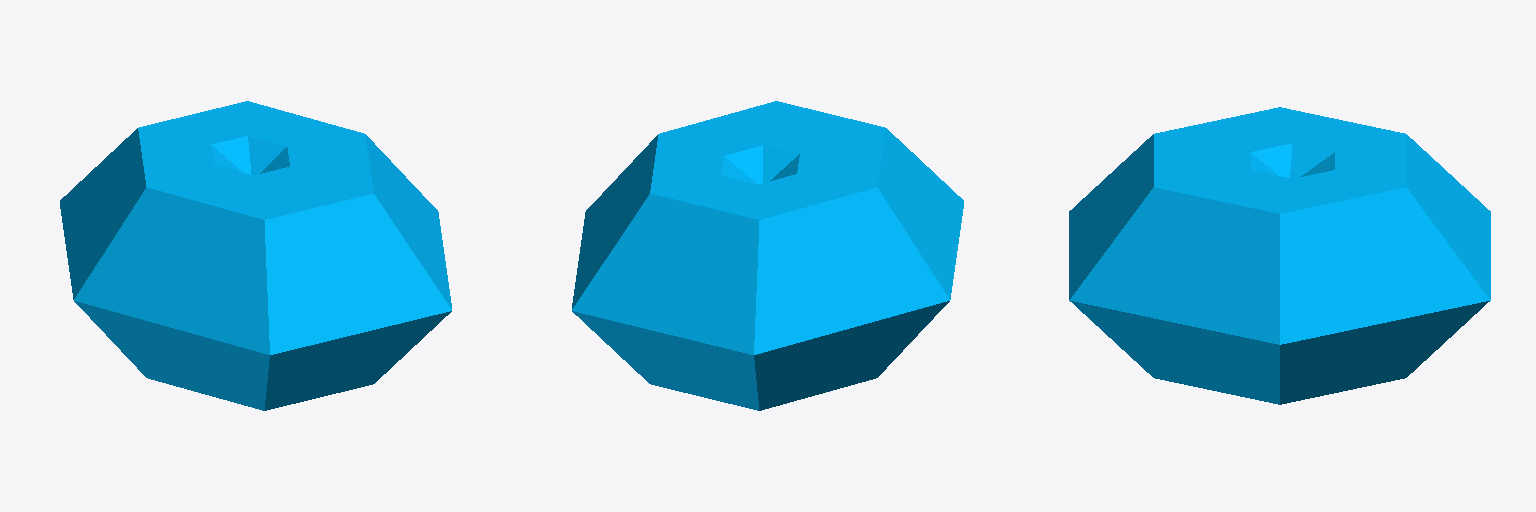
Rendered from Item.obj.
3 renders of one model, left to right at view 1: azimuth 30°, elevation 25°; view 2: azimuth 150°, elevation 25°; view 3: azimuth 270°, elevation 25°, orthographic.
Visible parts, largest first — view 1: Item; view 2: Item; view 3: Item.
Part boxes in pixels (bbox=[...]): Item: bbox=[60, 101, 451, 410]; Item: bbox=[572, 101, 963, 410]; Item: bbox=[1069, 107, 1490, 404].
Size of the model in its own units: 0.5 by 0.25 by 0.5.